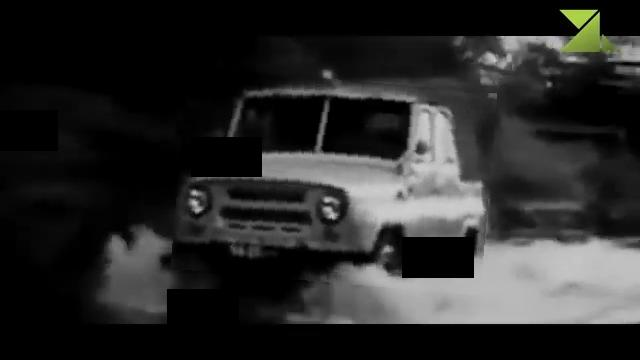MIL_HMMWV: (175, 73, 494, 289)
